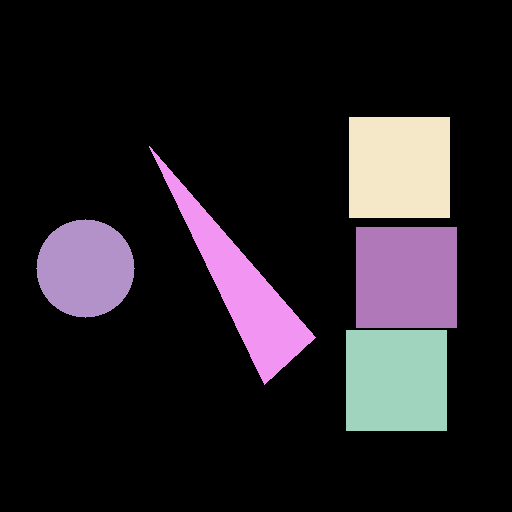circle: (36, 219, 134, 317)
square: (346, 330, 446, 430), (356, 227, 456, 327), (349, 117, 449, 217)
triangle: (149, 146, 315, 384)
